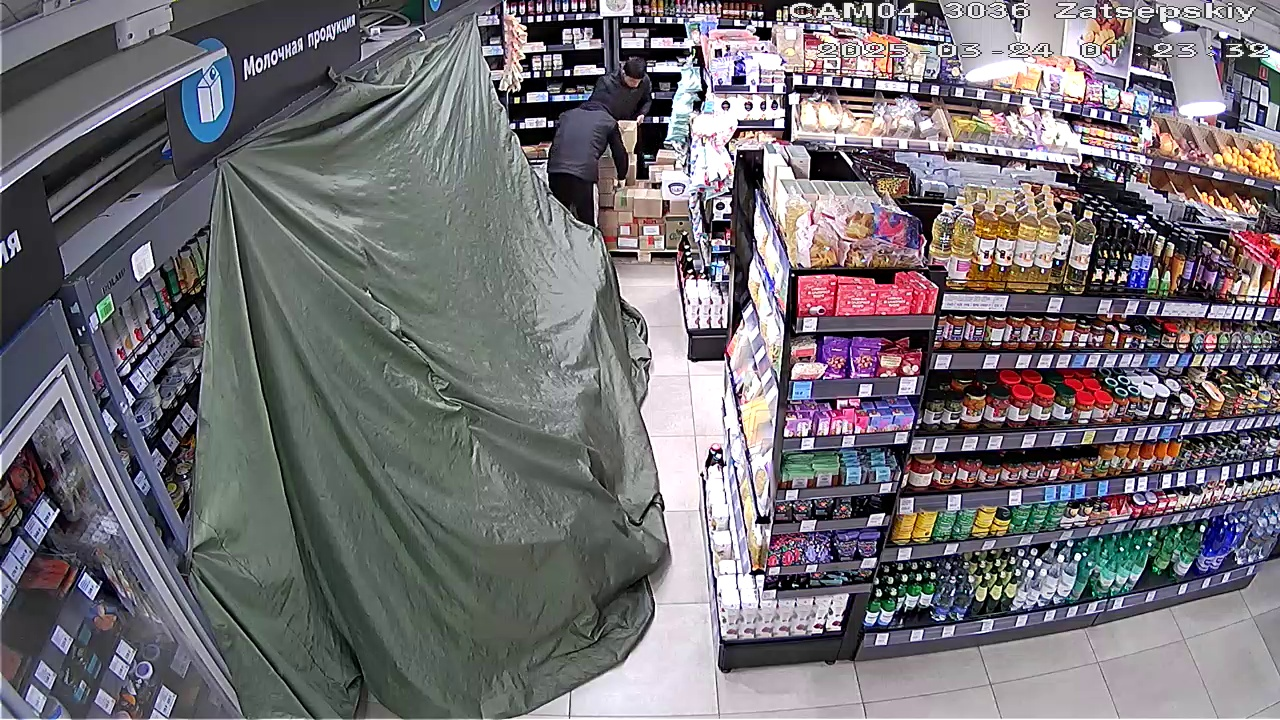Human: (540, 92, 626, 222), (590, 49, 656, 121)
dome: (186, 17, 659, 706)
pallet: (603, 147, 704, 261)
